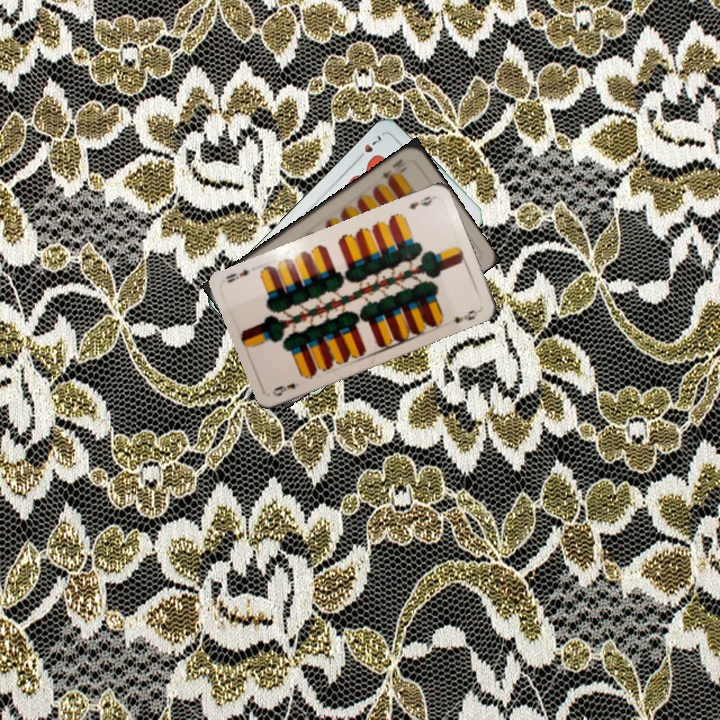E10: (376, 155, 406, 186)
E9: (268, 379, 302, 399), (405, 192, 436, 212)
H7: (353, 131, 384, 163)
